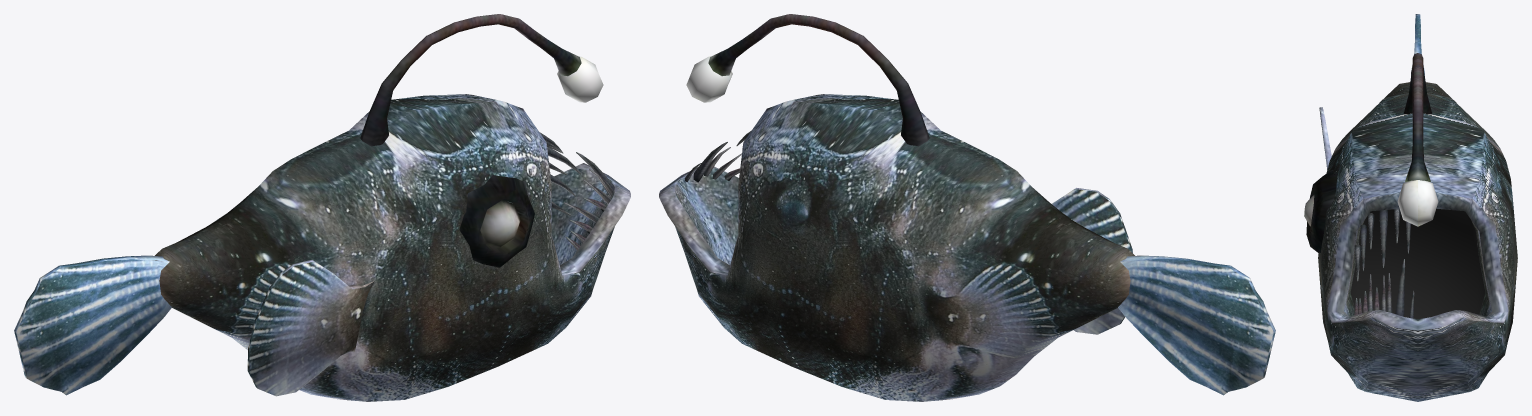
The model's file is angler_fish_final.glb.
3 views of the same model, side by side, from view 1: azimuth 30°, elevation 25°; view 2: azimuth 150°, elevation 25°; view 3: azimuth 270°, elevation 25° (orthographic). The views are drawn at different scales.
Visible parts, largest first — view 1: Tail, Fin2_1, Fish_eyes, Sprout, Teeth, GLOWING LIGHT; view 2: Tail, Sprout, Fin2_1, GLOWING LIGHT, Teeth; view 3: Tail, Teeth, Sprout, Fish_eyes, GLOWING LIGHT, Fin2_1.
Part boxes in pixels (left/top/right/bottom): Tail: left=14, top=94, right=630, bottom=401; Fin2_1: left=247, top=260, right=374, bottom=396; Fish_eyes: left=459, top=175, right=534, bottom=267; Sprout: left=360, top=14, right=581, bottom=146; Teeth: left=539, top=132, right=614, bottom=250; GLOWING LIGHT: left=557, top=56, right=603, bottom=102; Tail: left=659, top=94, right=1275, bottom=401; Sprout: left=708, top=14, right=929, bottom=146; Fin2_1: left=1052, top=188, right=1132, bottom=334; GLOWING LIGHT: left=686, top=56, right=732, bottom=102; Teeth: left=685, top=130, right=751, bottom=182; Tail: left=1318, top=14, right=1517, bottom=401; Teeth: left=1354, top=208, right=1414, bottom=318; Sprout: left=1403, top=53, right=1432, bottom=181; Fish_eyes: left=1304, top=169, right=1337, bottom=252; GLOWING LIGHT: left=1397, top=180, right=1438, bottom=226; Fin2_1: left=1319, top=107, right=1331, bottom=169.
Size of the model in its own units: 1 by 0.5598 by 0.319.
2 materials, 2 textured.
